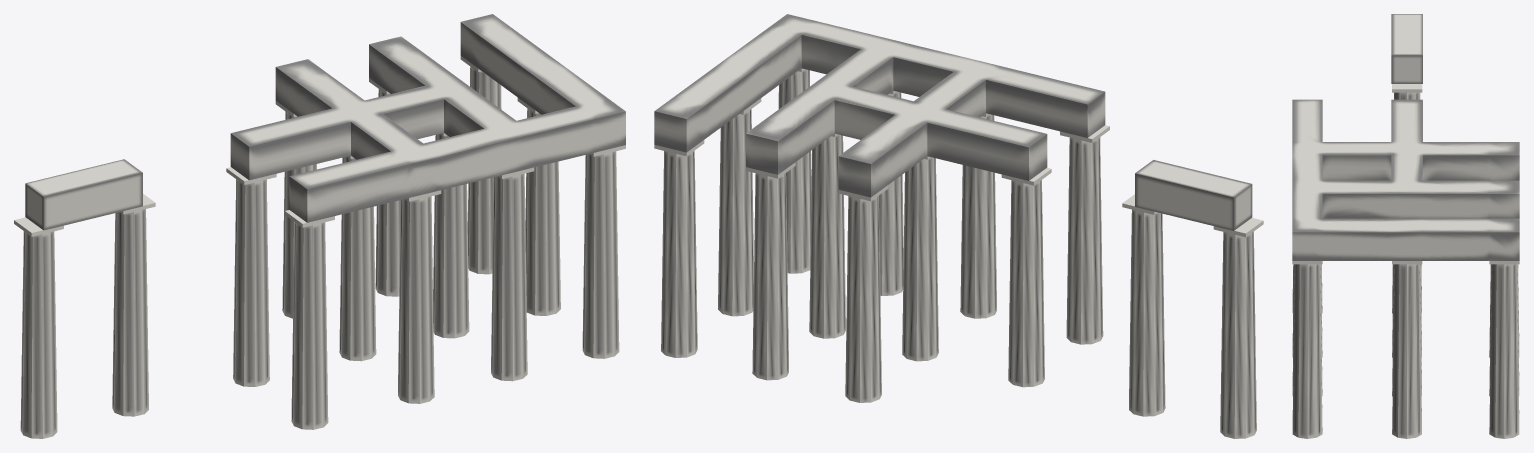
Rendered from Olympieion.fbx.
The picture shows the model from 3 angles, left to right: view 1: azimuth 30°, elevation 25°; view 2: azimuth 150°, elevation 25°; view 3: azimuth 270°, elevation 25°; orthographic projection. The views are drawn at different scales.
Visible parts, largest first — view 1: Olympian1; view 2: Olympian1; view 3: Olympian1.
Part boxes in pixels (x1,y1,x2,y2): Olympian1: (14,14,625,438); Olympian1: (654,14,1263,438); Olympian1: (1292,14,1519,438).
Size of the model in its own units: 2015 by 871 by 867.
Materials: 1 (1 with a texture image).
